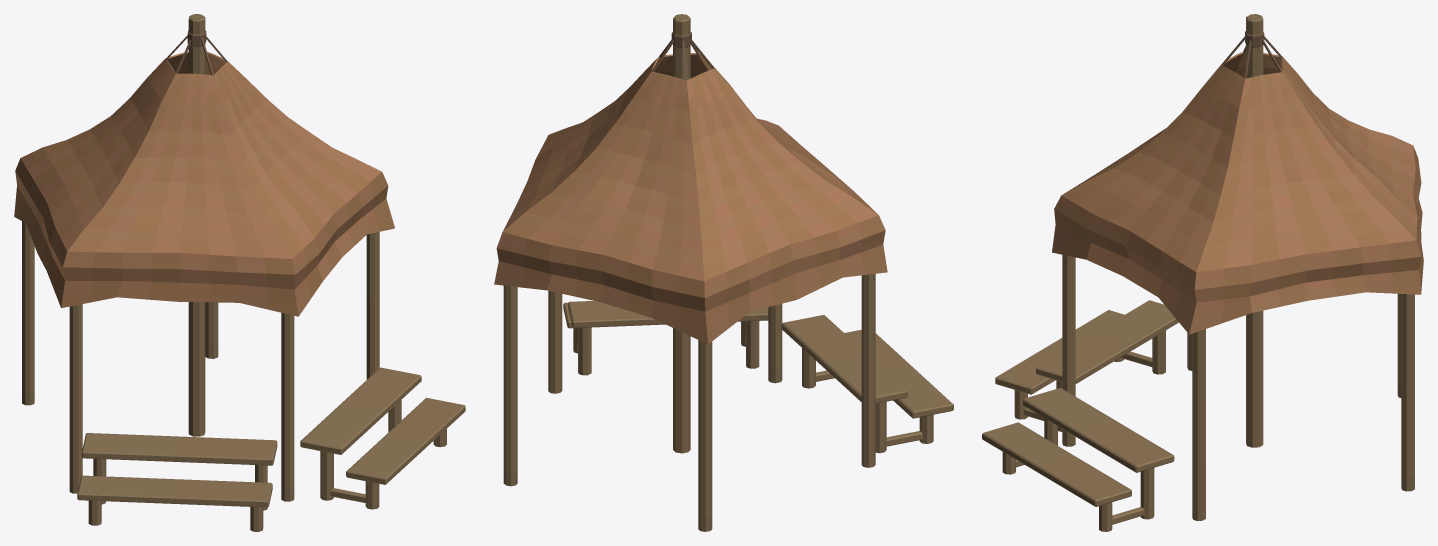
File: stall3.glb
3 views of the same model, side by side, from view 1: azimuth 30°, elevation 25°; view 2: azimuth 150°, elevation 25°; view 3: azimuth 270°, elevation 25° (orthographic). The views are drawn at different scales.
Size of the model in its own units: 5.15 by 5.37 by 5.03.
Materials: 1 (1 with a texture image).
